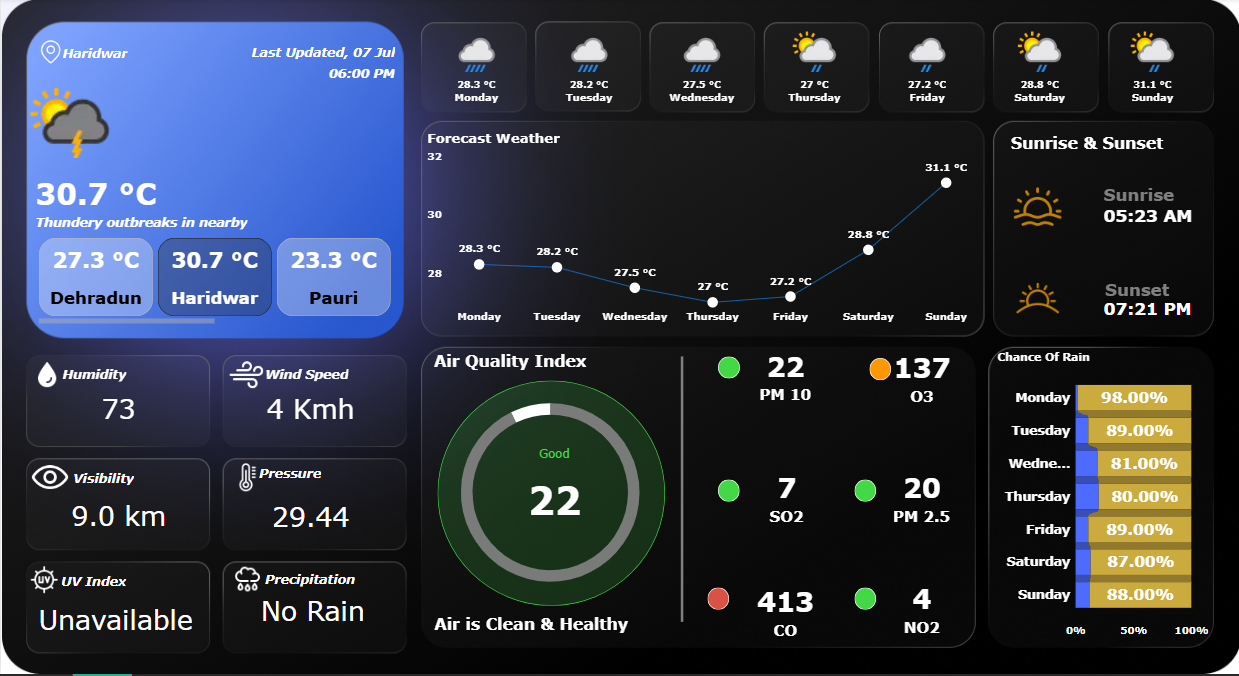

What the dashboard file says about the page in this screenshot:
{"tool":"powerbi","page":{"name":"Page 1","canvas":[1980,1080],"ordinal":0},"visuals":[{"type":"shape","box":[696.4,611.4,363.6,360],"z":0},{"type":"advancedSlicerVisual","fields":{"Values":["Lcations.location.name"]},"box":[55.6,378.1,574.4,148.1],"z":1000},{"type":"shape","box":[55.7,250,375,127.9],"z":2000},{"type":"shape","box":[56,292,442,130],"z":3000},{"type":"shape","box":[98,23,443,127],"z":4000},{"type":"shape","box":[187.5,22.5,442.5,127.5],"z":5000},{"type":"shape","box":[188,54,442,128],"z":6000},{"type":"image","box":[55,63,48,47],"z":7000},{"type":"cardVisual","fields":{"Data":["Min(Current.current.condition.icon)"]},"box":[2.5,105,200,155],"z":8000},{"type":"image","box":[27.1,726.4,103.6,78.6],"z":9000},{"type":"shape","box":[115.4,737.7,103.1,55.4],"z":10000},{"type":"image","box":[363.3,737.5,59.2,55],"z":11000},{"type":"image","box":[355.8,568.3,75,67.5],"z":12000},{"type":"image","box":[27.1,575,94.3,52.9],"z":13000},{"type":"image","box":[40.8,900.8,56.9,56.2],"z":14000},{"type":"image","box":[363.1,899.2,59.2,59.2],"z":15000},{"type":"shape","box":[98.2,573.6,102.7,55.5],"z":16000},{"type":"shape","box":[422.5,573.8,143.8,55],"z":17000},{"type":"shape","box":[412.4,730.5,102.4,55.2],"z":18000},{"type":"shape","box":[421.9,901.9,144.3,55.2],"z":19000},{"type":"shape","box":[94.8,902.9,106.2,55.2],"z":20000},{"type":"card","fields":{"Values":["Current.Visibility_KM"]},"box":[0,750,375,150],"z":21000},{"type":"card","fields":{"Values":["_Measures.Current_prep_disc"]},"box":[346.2,930,305,95],"z":22000},{"type":"card","fields":{"Values":["_Measures.Wind Speed"]},"box":[307.5,580,375,150],"z":23000},{"type":"card","fields":{"Values":["Sum(Current.current.humidity)"]},"box":[0,580,375,150],"z":24000},{"type":"card","fields":{"Values":["Sum(Current.current.pressure_in)"]},"box":[307.5,752.5,375,150],"z":25000},{"type":"card","fields":{"Values":["_Measures.UV Index Status"]},"box":[10,929,346,123.5],"z":26000},{"type":"advancedSlicerVisual","fields":{"Values":["Forcast_Day.Day_Name"]},"box":[668.3,35,1266.7,150],"z":27000},{"type":"lineChart","title":"Forecast Weather","fields":{"Y":["Sum(Forcast_Day.forecast.forecastday.day.avgtemp_c)"],"Category":["Forcast_Day.Day_Name"]},"box":[676.7,210,888.7,317.3],"z":28000},{"type":"shape","box":[1413.3,166.7,443.3,126.7],"z":29000},{"type":"shape","box":[1761.4,316.3,158.2,62.3],"z":30000},{"type":"shape","box":[1761.4,464.9,153.4,62.3],"z":31000},{"type":"shape","box":[1763.8,433.1,153.1,62.3],"z":32000},{"type":"shape","box":[1761.4,282.8,153.4,62.3],"z":33000},{"type":"image","box":[1612.8,290,86.3,86.3],"z":34000},{"type":"image","box":[1606.2,420,100.8,120],"z":35000},{"type":"hundredPercentStackedBarChart","title":"Chance Of Rain","fields":{"Y":["_Measures.Left_value_Rain","Sum(Forcast_Day.forecast.forecastday.day.daily_chance_of_rain)"],"Category":["Forcast_Day.Day_Name"]},"box":[1587.1,562.9,347.9,465.8],"z":36000},{"type":"shape","box":[680.6,548.8,266,62.3],"z":37000},{"type":"card","fields":{"Values":["Sum(Current.current.air_quality.o3)"]},"box":[1285.7,528.6,372.9,150],"z":38000},{"type":"card","fields":{"Values":["Sum(Current.current.air_quality.no2)"]},"box":[1283.6,899.1,372.7,150],"z":39000},{"type":"card","fields":{"Values":["Sum(Current.current.air_quality.co)"]},"box":[1065.7,902.9,372.9,150],"z":40000},{"type":"card","fields":{"Values":["Sum(Current.current.air_quality.so2)"]},"box":[1068,722,372,150],"z":41000},{"type":"card","fields":{"Values":["Sum(Current.current.air_quality.pm10)"]},"box":[1067.1,527.1,372.9,150],"z":42000},{"type":"card","fields":{"Values":["Sum(Current.current.air_quality.pm2_5)"]},"box":[1284,722,372,150],"z":43000},{"type":"shape","box":[1145,573.6,35,35],"z":44000},{"type":"shape","box":[1363.3,942.2,34.4,35.6],"z":45000},{"type":"shape","box":[1128.9,942.2,34.4,35.6],"z":46000},{"type":"shape","box":[1363.3,770,34.4,35.6],"z":47000},{"type":"shape","box":[1145.6,770,34.4,35.6],"z":48000},{"type":"shape","box":[1387.8,575.6,34.4,35.6],"z":49000},{"type":"shape","box":[1047.5,573.3,81.7,424.2],"z":50000},{"type":"card","fields":{"Values":["Sum(Current.current.air_quality.pm10)"]},"box":[696.4,715.7,372.9,150.7],"z":51000},{"type":"donutChart","fields":{"Y":["_Measures.Left_PM10_Value","Sum(Current.current.air_quality.pm10)"]},"box":[580,606.3,594.3,366.7],"z":52000},{"type":"shape","box":[649.5,973,395.4,52.7],"z":52001}]}

Visuals, with their boxes in screenshot pixels (x1, y1, x2, y2), scaled from the page's 1980x1080 canvas onto the 1239x676 screenshot:
shape: 436,383,663,608
advancedSlicerVisual - Lcations.location.name: 35,237,394,329
shape: 35,156,270,237
shape: 35,183,312,264
shape: 61,14,339,94
shape: 117,14,394,94
shape: 118,34,394,114
image: 34,39,64,69
cardVisual - Min(Current.current.condition.icon): 2,66,127,163
image: 17,455,82,504
shape: 72,462,137,496
image: 227,462,264,496
image: 223,356,270,398
image: 17,360,76,393
image: 26,564,61,599
image: 227,563,264,600
shape: 61,359,126,394
shape: 264,359,354,394
shape: 258,457,322,492
shape: 264,565,354,599
shape: 59,565,126,600
card - Current.Visibility_KM: 0,469,235,563
card - _Measures.Current_prep_disc: 217,582,407,642
card - _Measures.Wind Speed: 192,363,427,457
card - Sum(Current.current.humidity): 0,363,235,457
card - Sum(Current.current.pressure_in): 192,471,427,565
card - _Measures.UV Index Status: 6,581,223,659
advancedSlicerVisual - Forcast_Day.Day_Name: 418,22,1211,116
"Forecast Weather" lineChart: 423,131,980,330
shape: 884,104,1162,184
shape: 1102,198,1201,237
shape: 1102,291,1198,330
shape: 1104,271,1200,310
shape: 1102,177,1198,216
image: 1009,182,1063,236
image: 1005,263,1068,338
"Chance Of Rain" hundredPercentStackedBarChart: 993,352,1211,644
shape: 426,344,592,383
card - Sum(Current.current.air_quality.o3): 805,331,1038,425
card - Sum(Current.current.air_quality.no2): 803,563,1036,657
card - Sum(Current.current.air_quality.co): 667,565,900,659
card - Sum(Current.current.air_quality.so2): 668,452,901,546
card - Sum(Current.current.air_quality.pm10): 668,330,901,424
card - Sum(Current.current.air_quality.pm2_5): 803,452,1036,546
shape: 716,359,738,381
shape: 853,590,875,612
shape: 706,590,728,612
shape: 853,482,875,504
shape: 717,482,738,504
shape: 868,360,890,383
shape: 655,359,707,624
card - Sum(Current.current.air_quality.pm10): 436,448,669,542
donutChart - _Measures.Left_PM10_Value x Sum(Current.current.air_quality.pm10): 363,379,735,609
shape: 406,609,654,642
